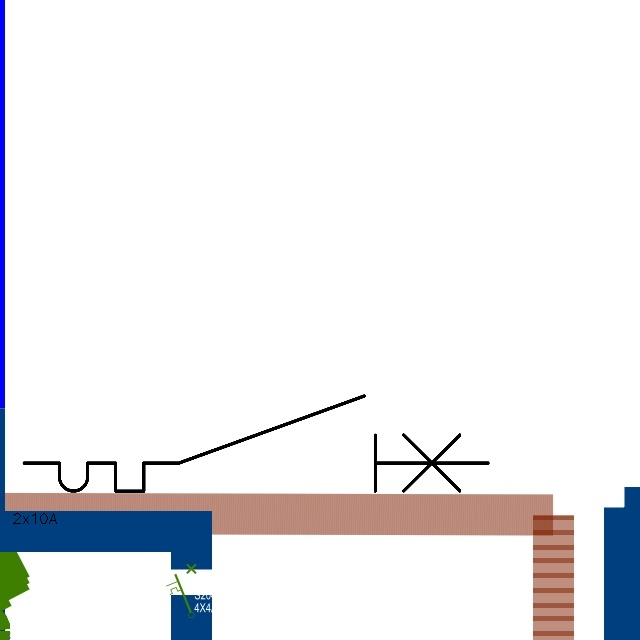interruptor_termomagnetico: (12, 384, 500, 503)
